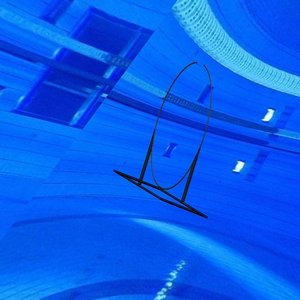circle: (113, 60, 213, 219)
